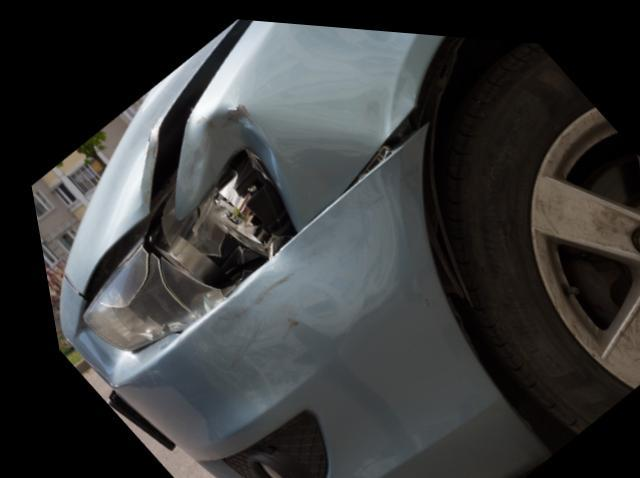dent: (189, 100, 365, 228)
lamp broken: (66, 144, 290, 349)
